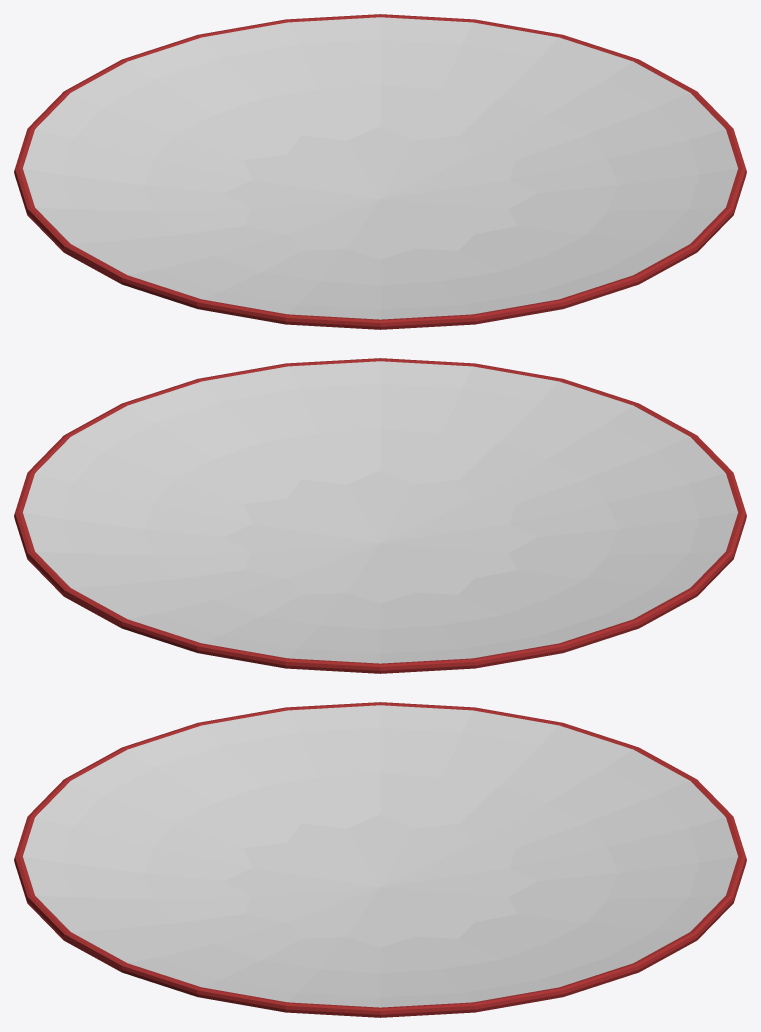
Rendered from Plate.fbx.
3 renders of one model, top to bottom at view 1: azimuth 30°, elevation 25°; view 2: azimuth 150°, elevation 25°; view 3: azimuth 270°, elevation 25°, orthographic.
Parts seen in each view (by area): view 1: Plate; view 2: Plate; view 3: Plate.
Boxes of the visible parts, box(x1,y1,x2,y2) form: Plate: box(14, 14, 746, 329); Plate: box(14, 358, 746, 673); Plate: box(14, 702, 746, 1017).
Size of the model in its own units: 2.15 by 2.15 by 0.1698.
